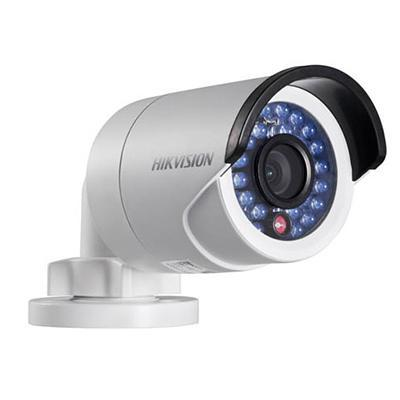CCTV: (28, 65, 388, 330)
